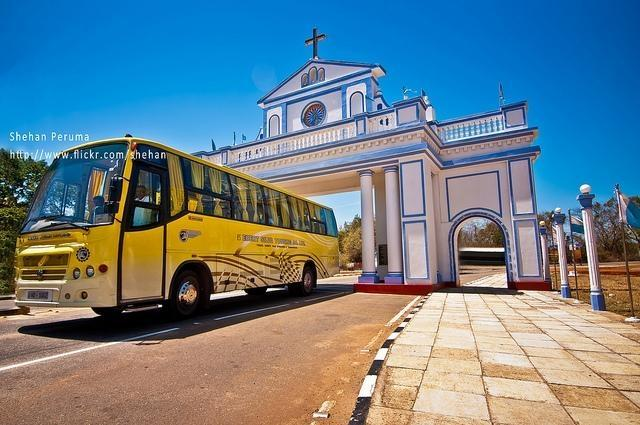bus: (9, 137, 342, 318)
